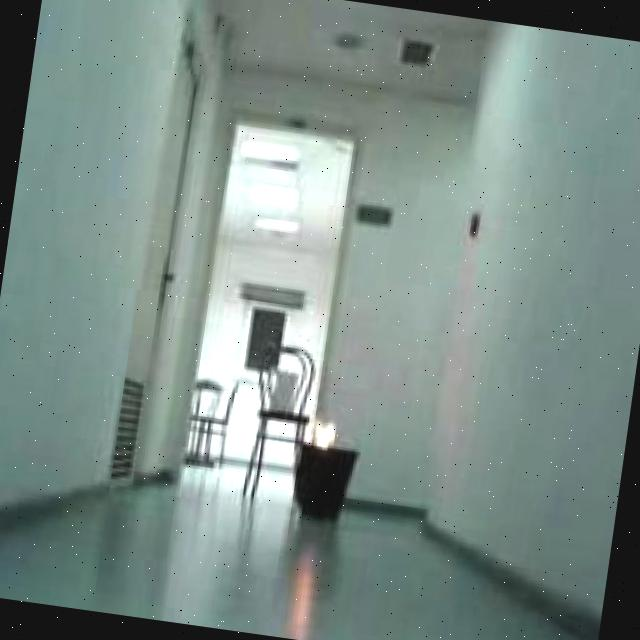fire: (302, 413, 346, 448)
